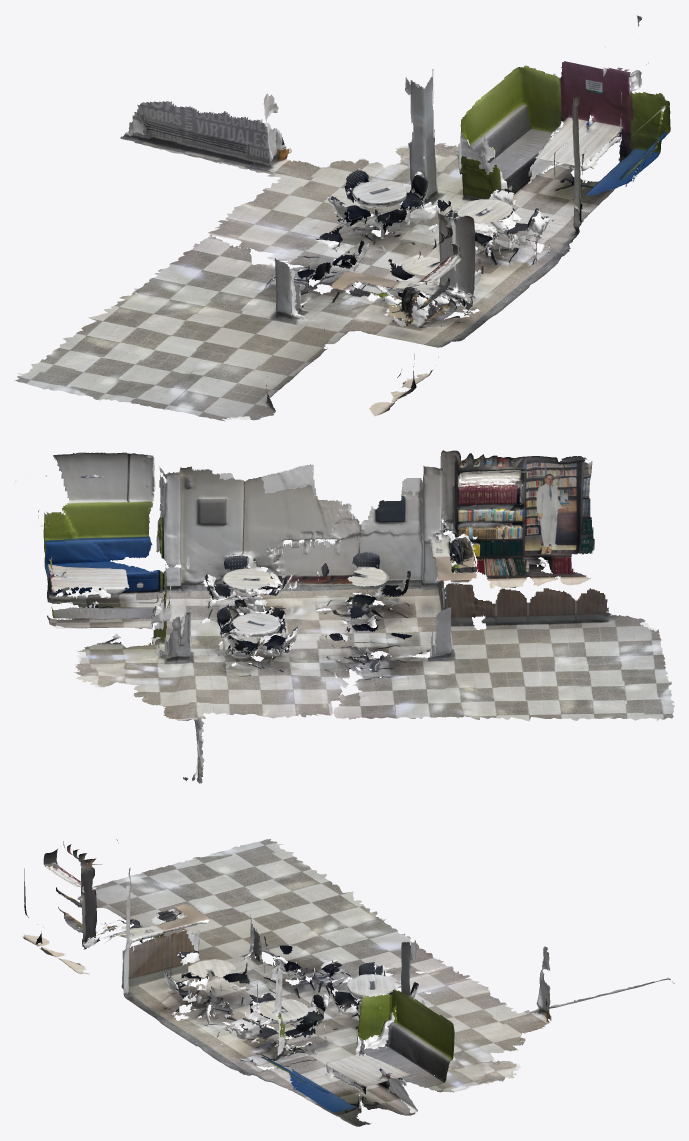
3 renders of one model, top to bottom at view 1: azimuth 30°, elevation 25°; view 2: azimuth 150°, elevation 25°; view 3: azimuth 270°, elevation 25°, orthographic. The views are drawn at different scales.
Parts seen in each view (by area): view 1: 7, 1, 2, 5, 3, 6, 4, 0, 10, 9, 8; view 2: 5, 10, 3, 7, 0, 6, 2, 1, 4, 8; view 3: 7, 1, 10, 3, 2, 0, 6, 4, 8, 5.
Part boxes in pixels (<box>): 7: <box>84,186,407,364</box>; 1: <box>262,65,605,256</box>; 2: <box>227,77,494,267</box>; 5: <box>475,15,670,262</box>; 3: <box>14,143,565,421</box>; 6: <box>255,188,499,370</box>; 4: <box>125,15,665,420</box>; 0: <box>330,188,583,328</box>; 10: <box>290,212,501,416</box>; 9: <box>120,101,273,175</box>; 8: <box>18,326,194,402</box>; 5: <box>42,452,348,625</box>; 10: <box>300,450,594,644</box>; 3: <box>183,478,674,780</box>; 7: <box>209,606,566,721</box>; 0: <box>151,481,476,656</box>; 6: <box>219,543,540,692</box>; 2: <box>74,561,349,720</box>; 1: <box>47,556,284,718</box>; 4: <box>38,455,657,778</box>; 8: <box>519,664,673,721</box>; 7: <box>203,886,494,1017</box>; 1: <box>251,972,544,1115</box>; 10: <box>23,839,254,1024</box>; 3: <box>77,839,674,1073</box>; 2: <box>310,942,550,1087</box>; 0: <box>92,889,375,1090</box>; 6: <box>154,918,397,1052</box>; 4: <box>35,863,669,1113</box>; 8: <box>173,844,338,908</box>; 5: <box>168,963,420,1126</box>.
Bounding box in the file's own units: 13 × 2.79 × 11.7.
Materials: 11 (10 with a texture image).
